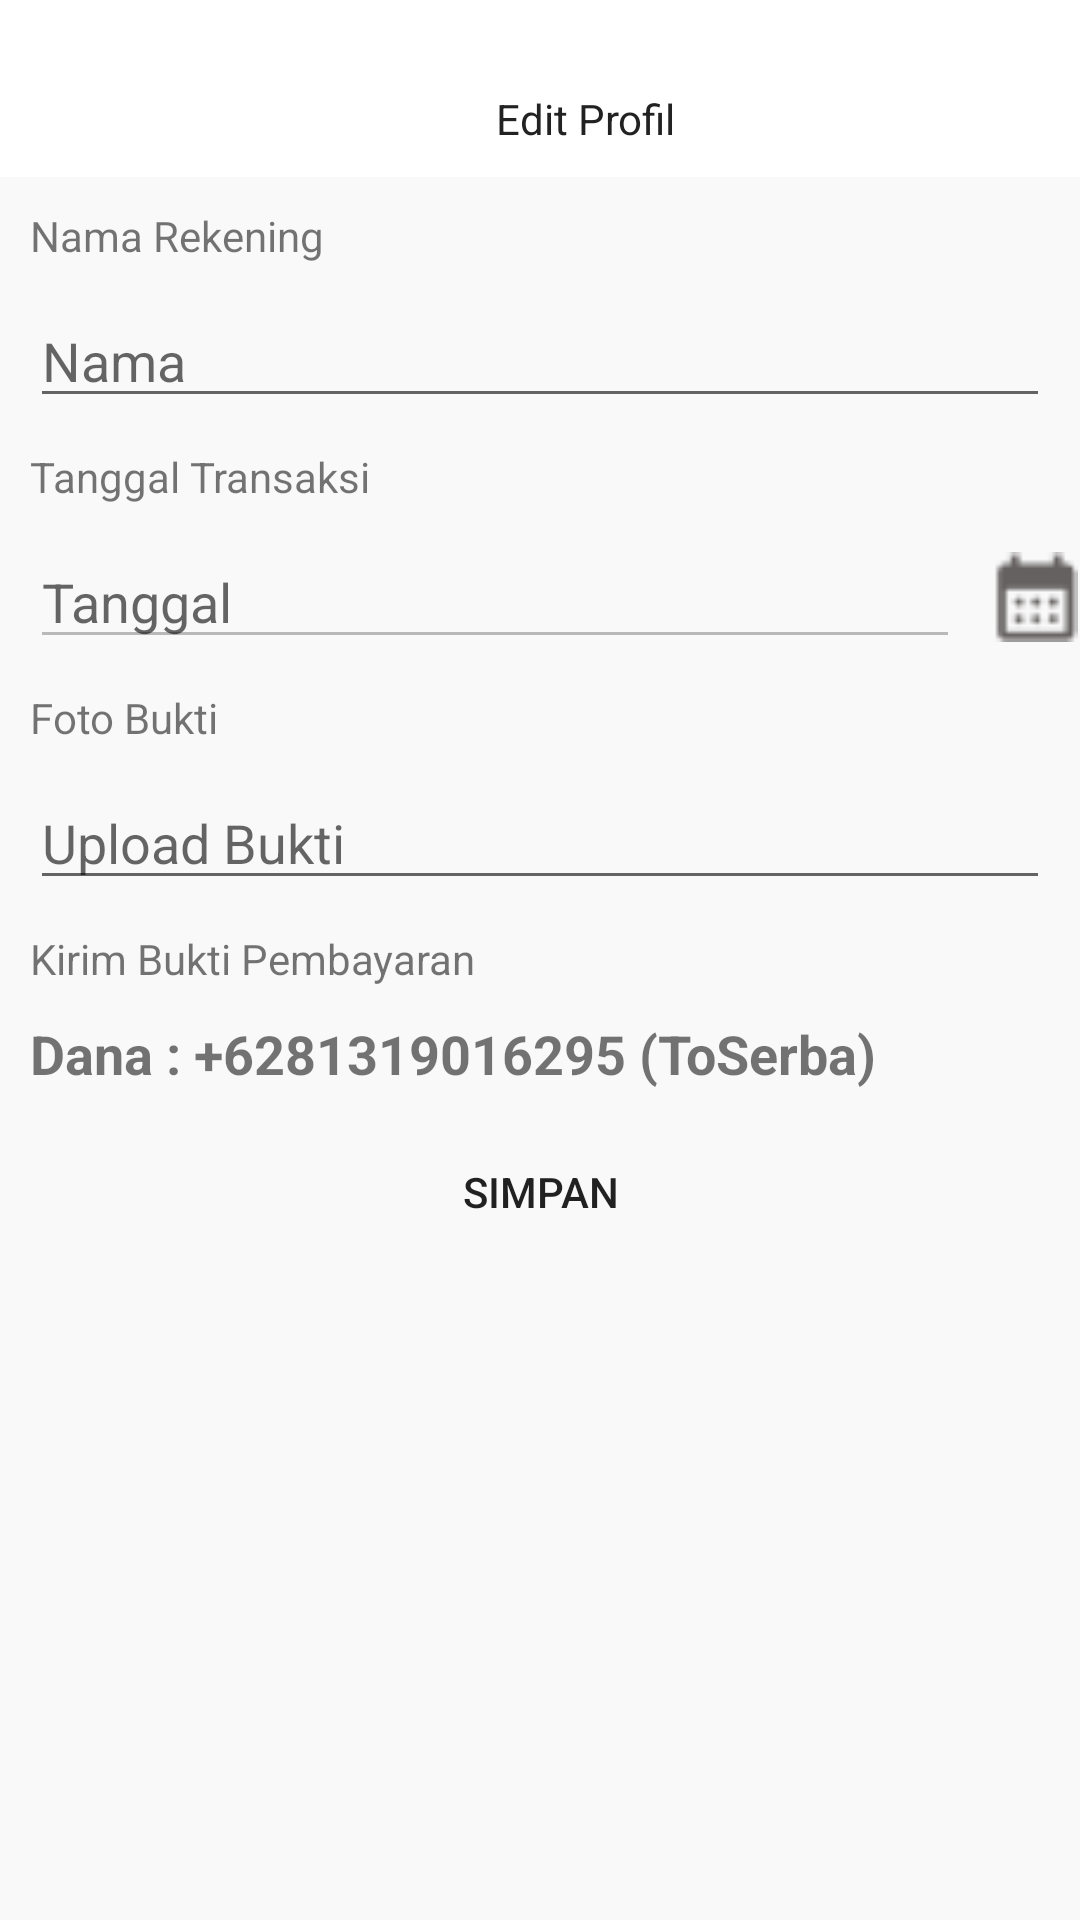

Icon click points for this 1080 x 1920 phone screenshot, format (x=x, y=y):
calendar: (x=1037, y=597)
